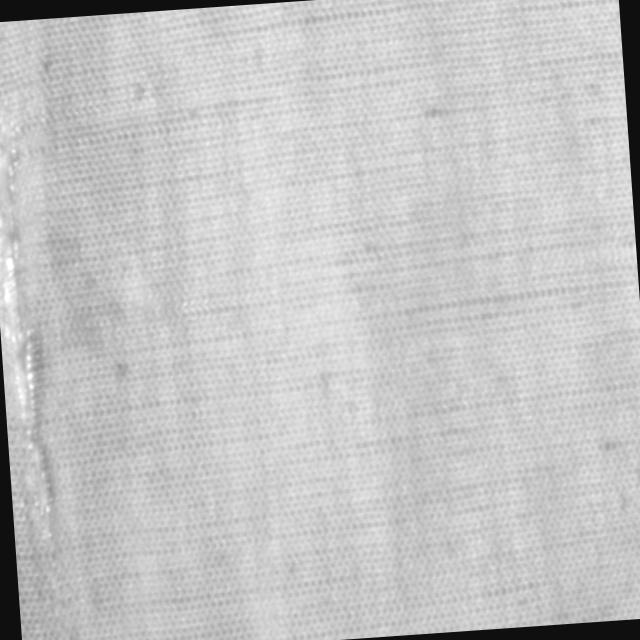thread error: (0, 85, 65, 590)
